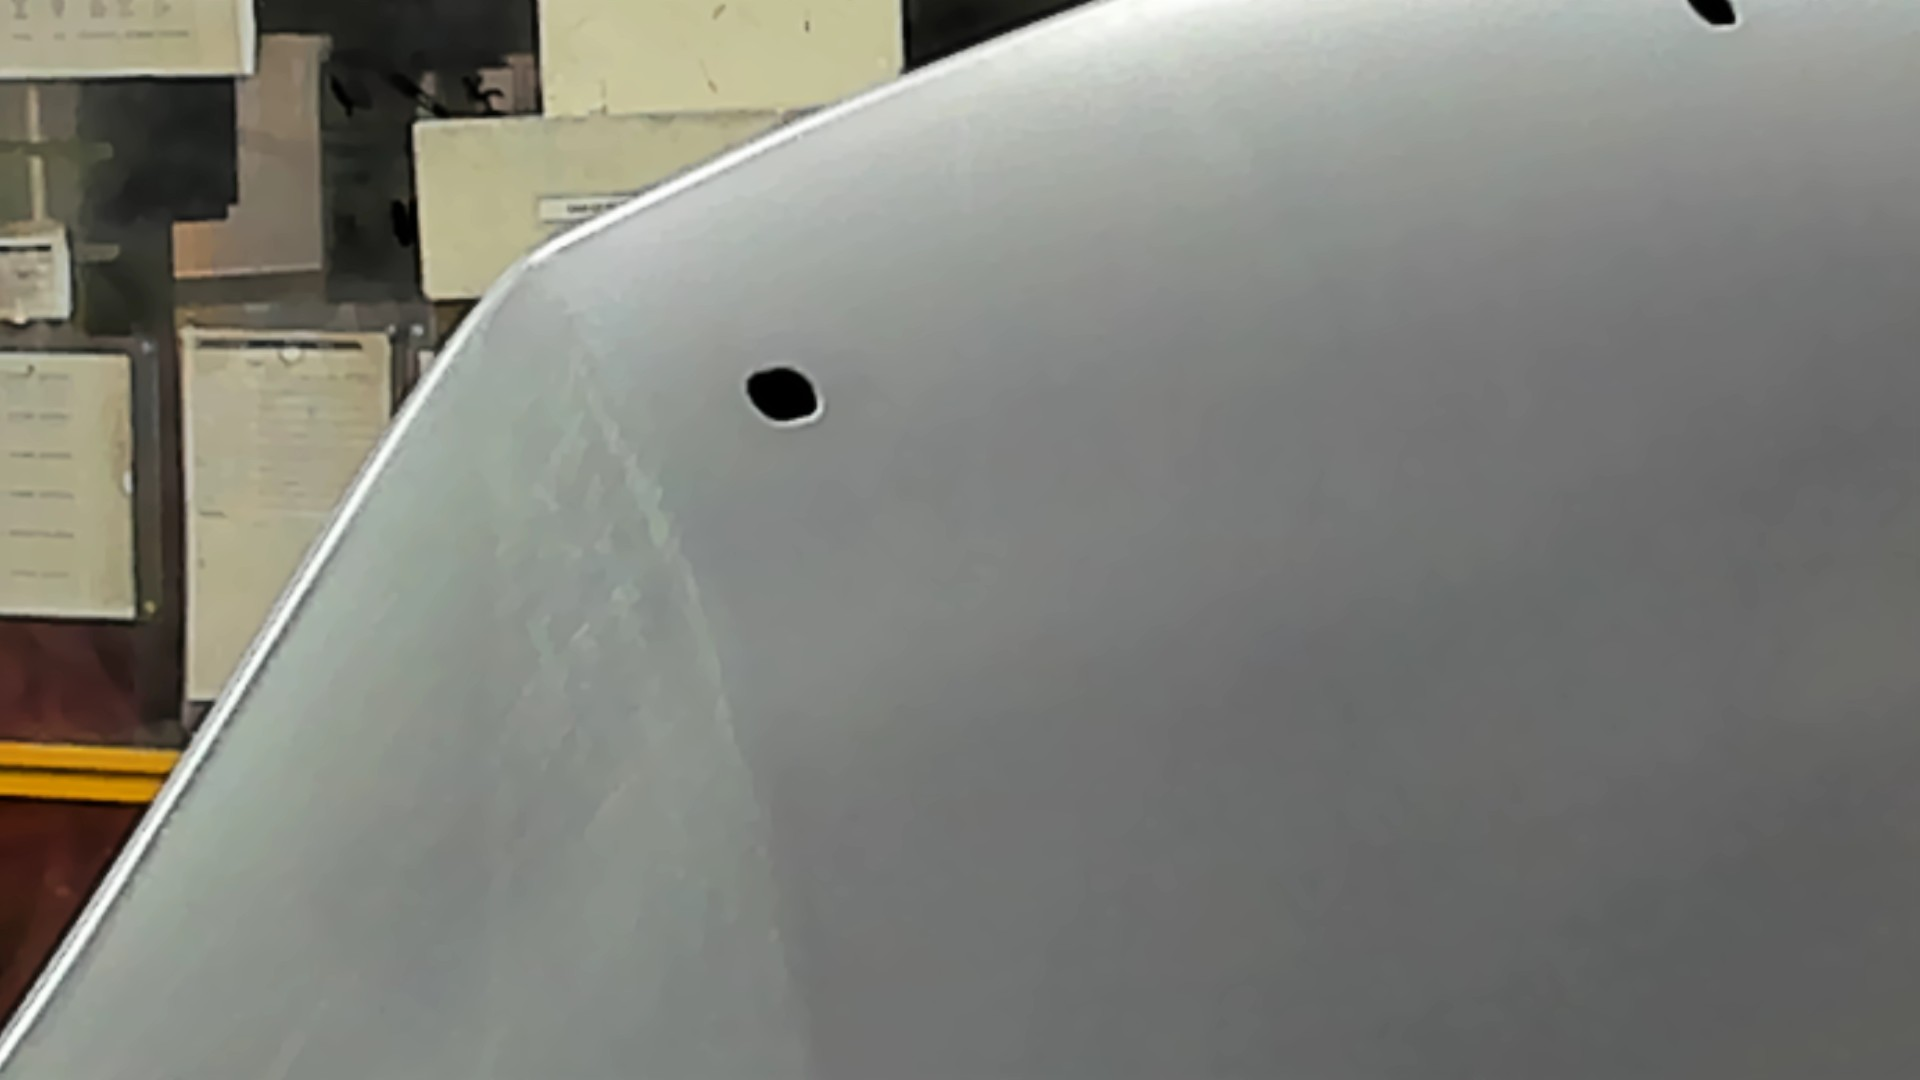amorfo: (737, 357, 829, 433), (1683, 1, 1746, 32)
capo: (922, 102, 1920, 1080)
